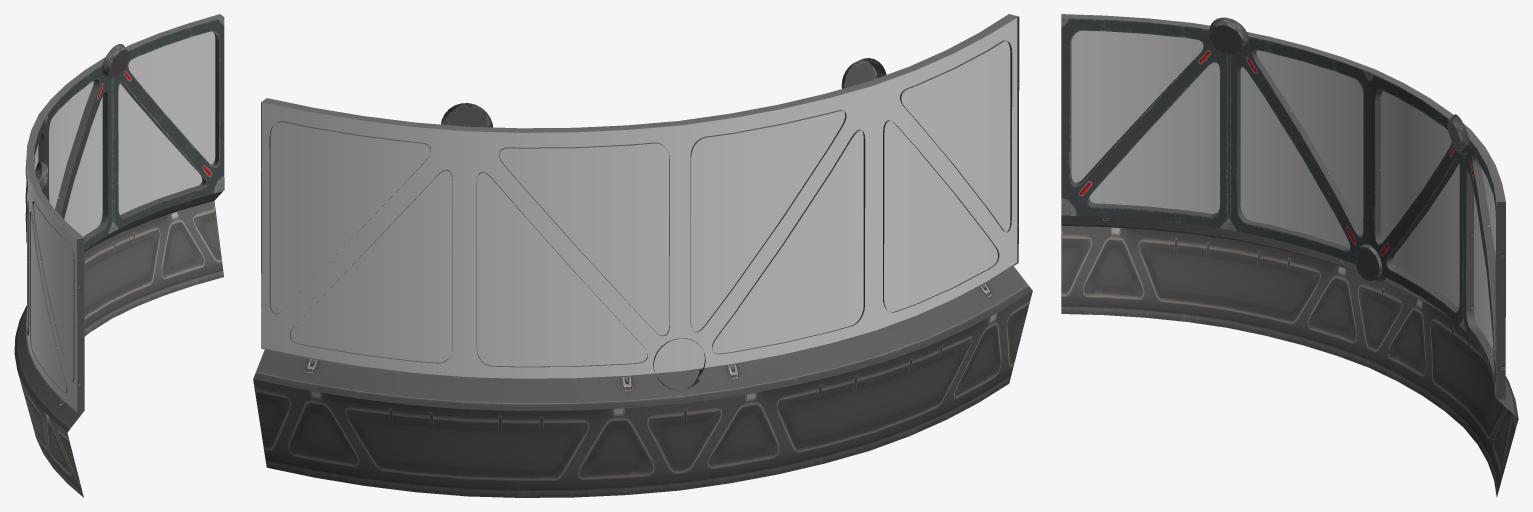
File: wall_window_corner_round_inner.glb
3 renders of one model, left to right at view 1: azimuth 30°, elevation 25°; view 2: azimuth 150°, elevation 25°; view 3: azimuth 270°, elevation 25°, orthographic. The views are drawn at different scales.
Visible parts, largest first — view 1: WallWindow_Corner_Round_Inner; view 2: WallWindow_Corner_Round_Inner; view 3: WallWindow_Corner_Round_Inner.
Boxes of the visible parts, box(x1,y1,x2,y2) form: WallWindow_Corner_Round_Inner: box(14, 14, 224, 497); WallWindow_Corner_Round_Inner: box(253, 14, 1032, 497); WallWindow_Corner_Round_Inner: box(1061, 14, 1518, 497).
Size of the model in its own units: 4.2 by 3.17 by 4.2.
4 materials, 3 textured.
